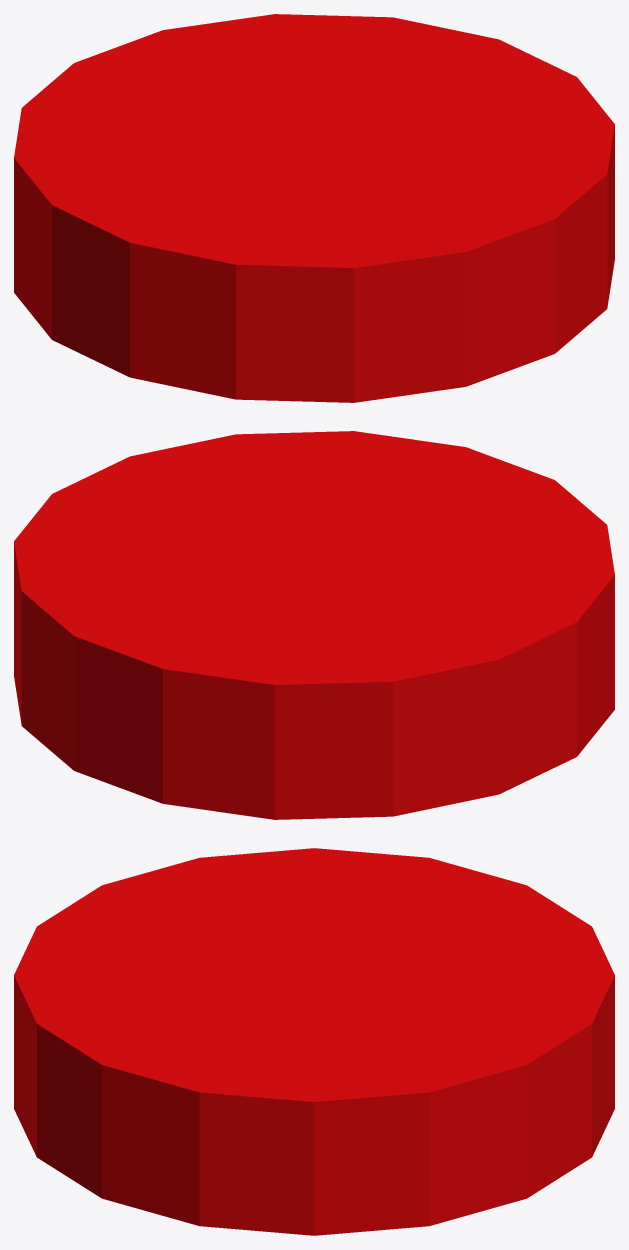
File: RedButtonOfDoomAndDespair 1.fbx
3 renders of one model, top to bottom at view 1: azimuth 30°, elevation 25°; view 2: azimuth 150°, elevation 25°; view 3: azimuth 270°, elevation 25°, orthographic.
Visible parts, largest first — view 1: Cube.002; view 2: Cube.002; view 3: Cube.002.
Boxes of the visible parts, left/top/right/bottom form: Cube.002: left=14, top=14, right=614, bottom=402; Cube.002: left=14, top=431, right=614, bottom=819; Cube.002: left=14, top=848, right=614, bottom=1235.
Bounding box in the file's own units: 1.63 × 0.4007 × 1.63.
